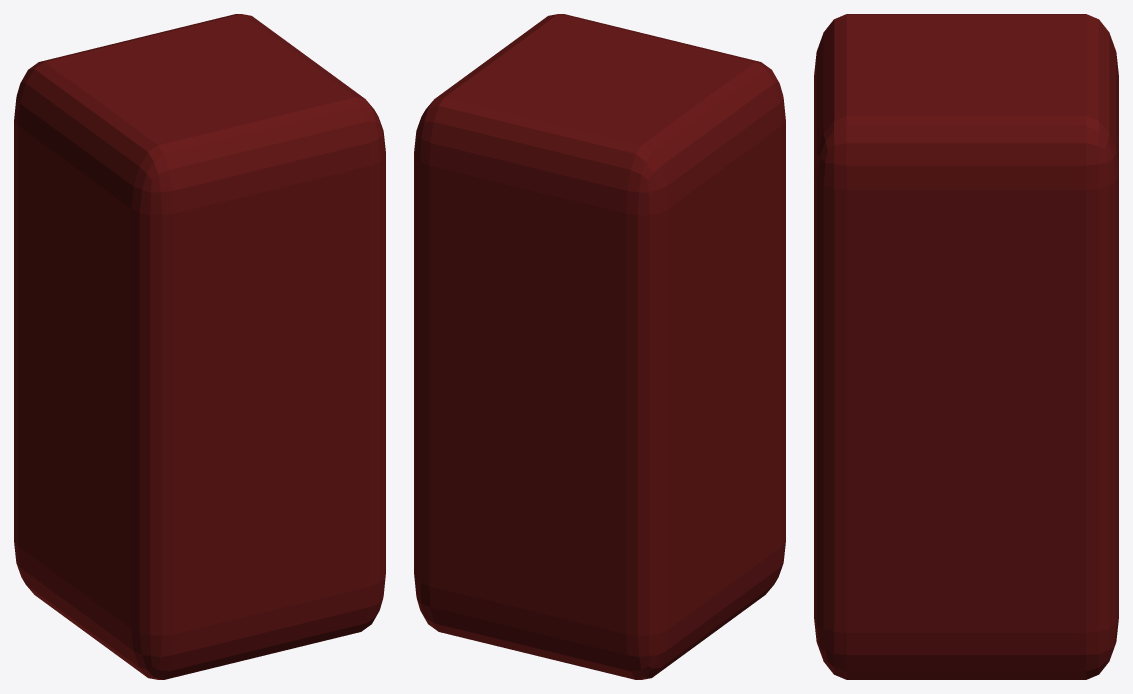
File: tower.fbx
3 views of the same model, side by side, from view 1: azimuth 30°, elevation 25°; view 2: azimuth 150°, elevation 25°; view 3: azimuth 270°, elevation 25° (orthographic). The views are drawn at different scales.
Visible parts, largest first — view 1: Cube, Cube_cell.007, Cube_cell.002, Cube_cell.003, Cube_cell.008, Cube_cell, Cube_cell.005; view 2: Cube, Cube_cell.002, Cube_cell.003, Cube_cell.009, Cube_cell.007, Cube_cell, Cube_cell.005; view 3: Cube, Cube_cell.005, Cube_cell.009, Cube_cell.003, Cube_cell.002, Cube_cell.008, Cube_cell.007.
Part boxes in pixels (<box>): Cube: <box>14,19,385,679</box>; Cube_cell.007: <box>46,267,385,668</box>; Cube_cell.002: <box>14,303,379,677</box>; Cube_cell.003: <box>17,14,235,264</box>; Cube_cell.008: <box>287,91,385,321</box>; Cube_cell: <box>93,145,313,319</box>; Cube_cell.005: <box>231,14,336,95</box>; Cube: <box>414,19,783,679</box>; Cube_cell.002: <box>414,358,783,677</box>; Cube_cell.003: <box>428,56,739,363</box>; Cube_cell.009: <box>414,212,670,492</box>; Cube_cell.007: <box>692,222,785,560</box>; Cube_cell: <box>742,87,785,238</box>; Cube_cell.005: <box>414,36,617,223</box>; Cube: <box>814,14,1118,672</box>; Cube_cell.005: <box>864,68,1115,413</box>; Cube_cell.009: <box>945,225,1118,537</box>; Cube_cell.003: <box>892,14,1118,174</box>; Cube_cell.002: <box>823,510,1118,679</box>; Cube_cell.008: <box>814,81,878,368</box>; Cube_cell.007: <box>814,337,942,659</box>.
Size of the model in its own units: 1000 by 1000 by 2040.
